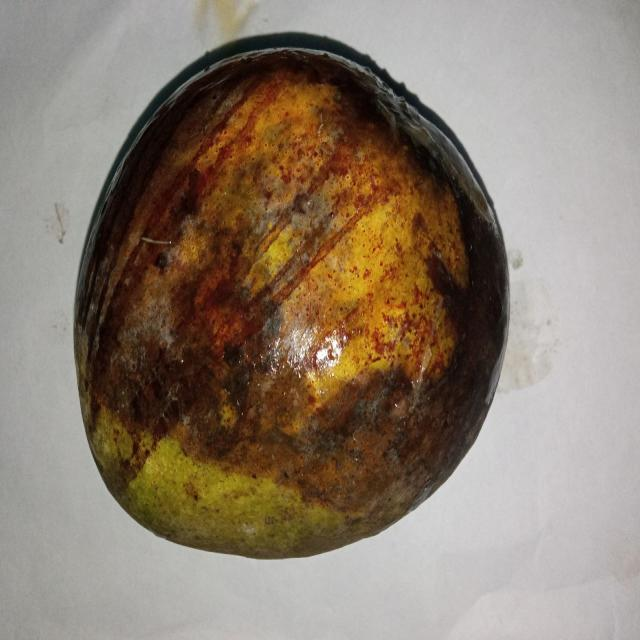rotten_mango: (75, 46, 503, 556)
